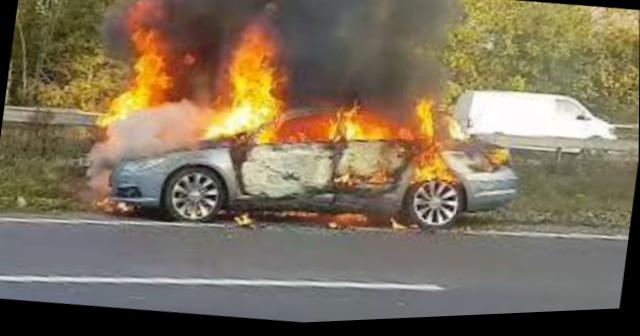fire: (86, 0, 302, 150), (277, 72, 469, 198)
